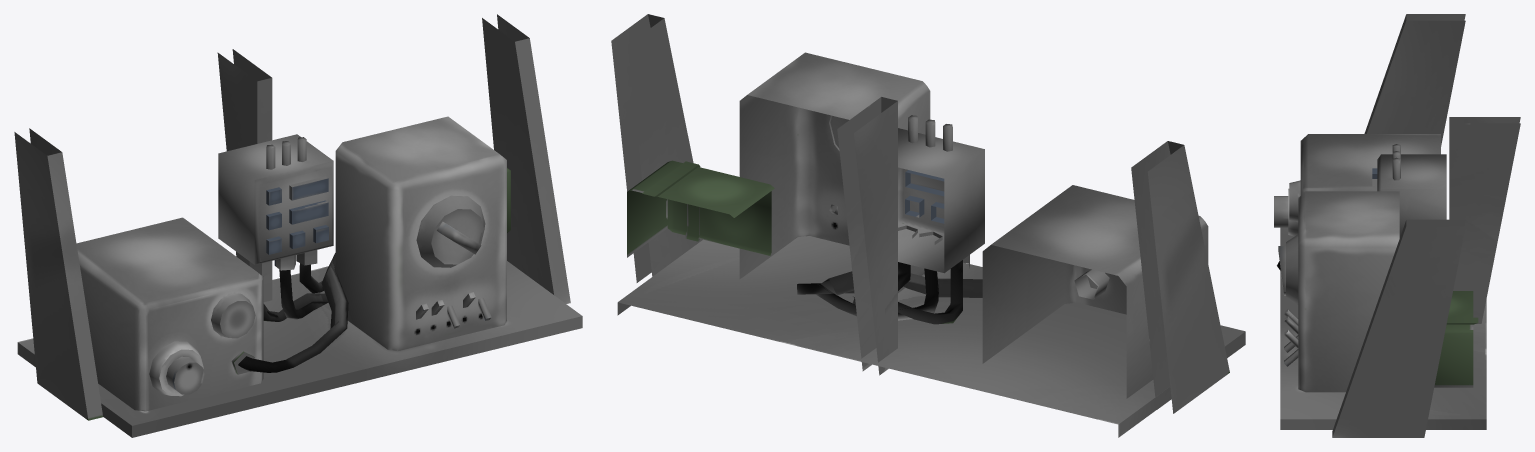
Rendered from Panel3.fbx.
3 views of the same model, side by side, from view 1: azimuth 30°, elevation 25°; view 2: azimuth 150°, elevation 25°; view 3: azimuth 270°, elevation 25° (orthographic). The views are drawn at different scales.
Visible parts, largest first — view 1: Cylinder.006; view 2: Cylinder.006; view 3: Cylinder.006.
Boxes of the visible parts, <box> form: Cylinder.006: <box>14,14,582,437</box>; Cylinder.006: <box>611,14,1245,437</box>; Cylinder.006: <box>1274,14,1520,437</box>.
Size of the model in its own units: 617 by 287 by 303.
